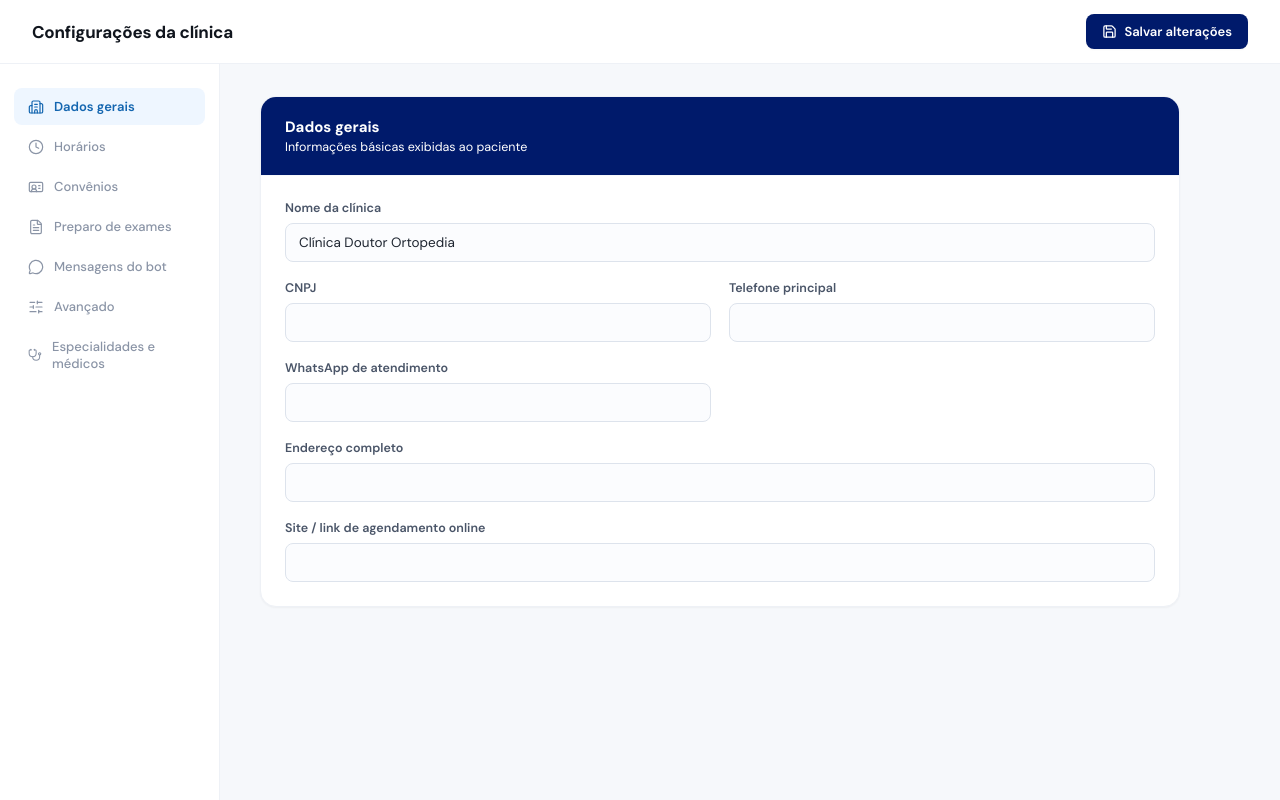
Test: ClinicConfig › atualiza o valor da consulta de um médico existente
Expected: the text "Configurações da clínica" is shown, [32,20,233,42]
Click the text "Especialidades e médicos" at (92, 355), box [28,338,155,372]
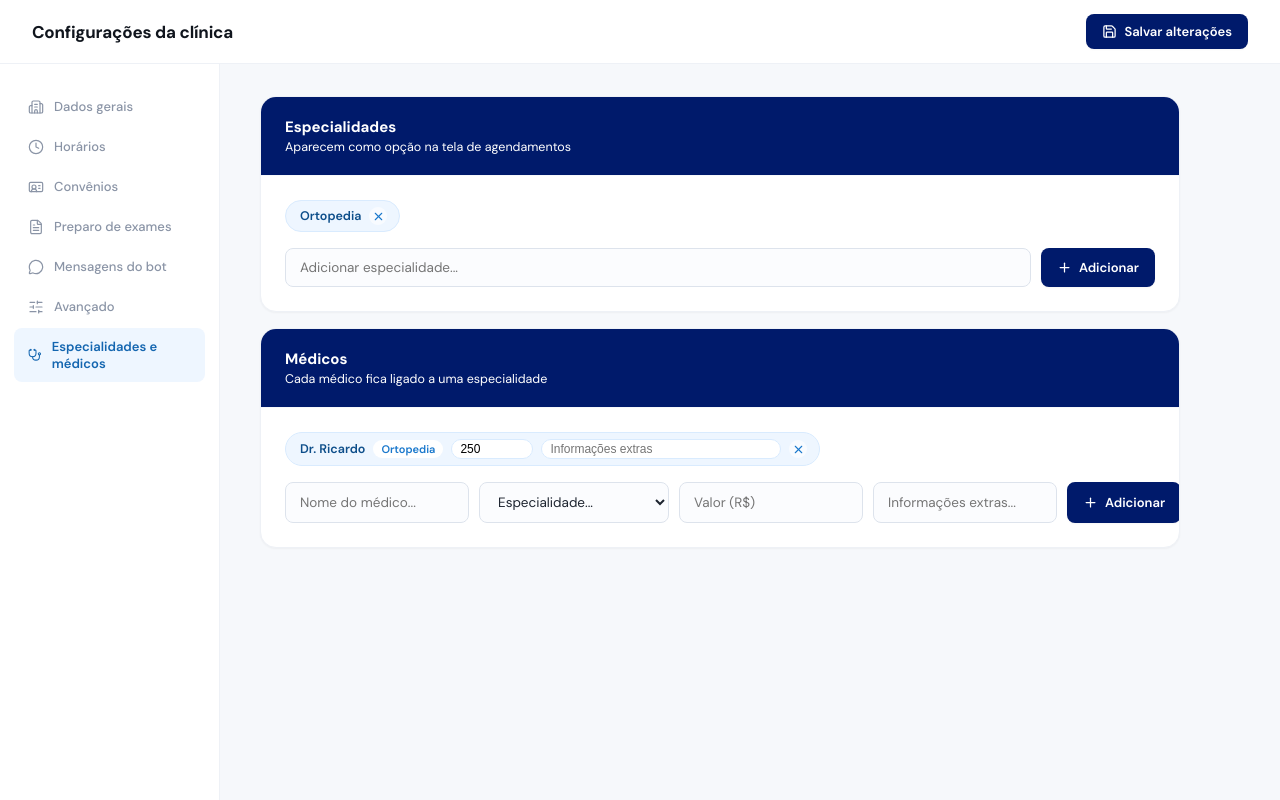
Replace the text in the number field named "Valor da consulta de Dr. Ricardo" with "400" at (492, 449), box [451,439,533,459]
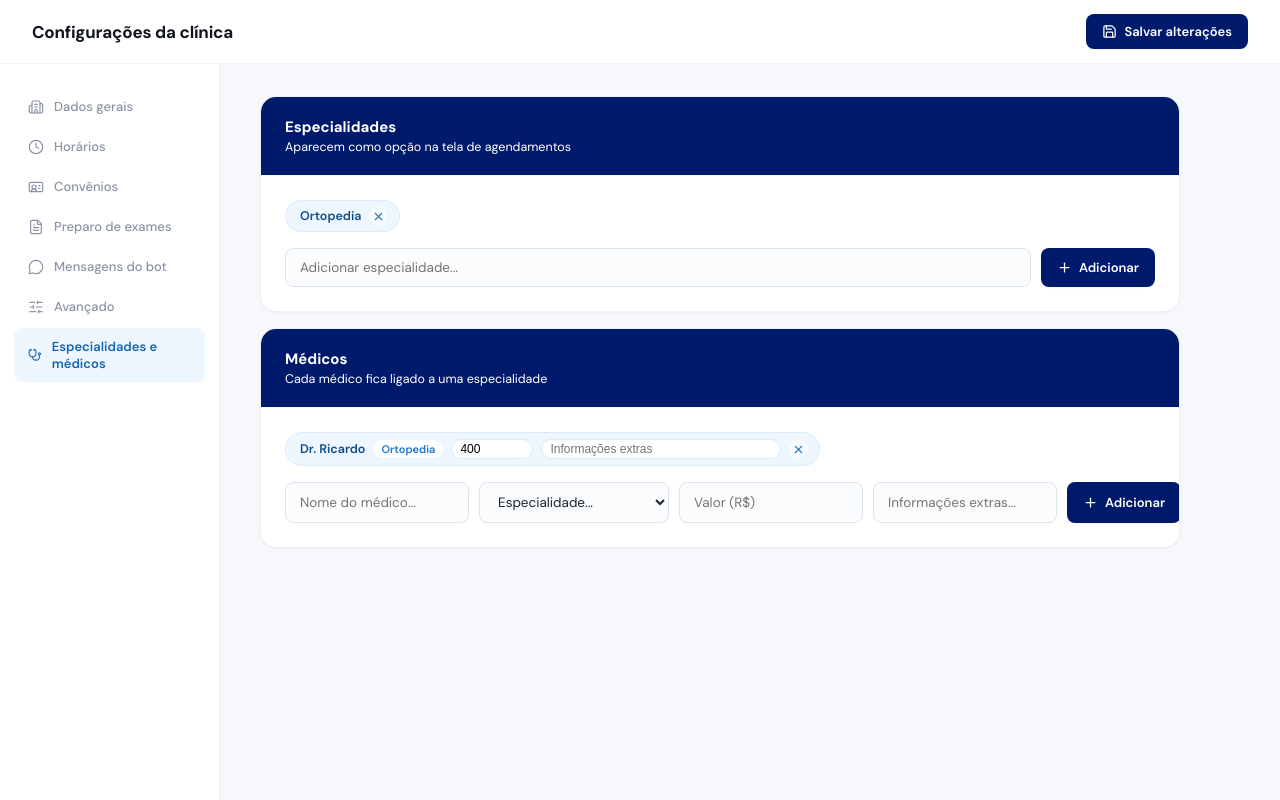
Replace the text in the number field named "Valor da consulta de Dr. Ricardo" with "-5" at (492, 449), box [451,439,533,459]
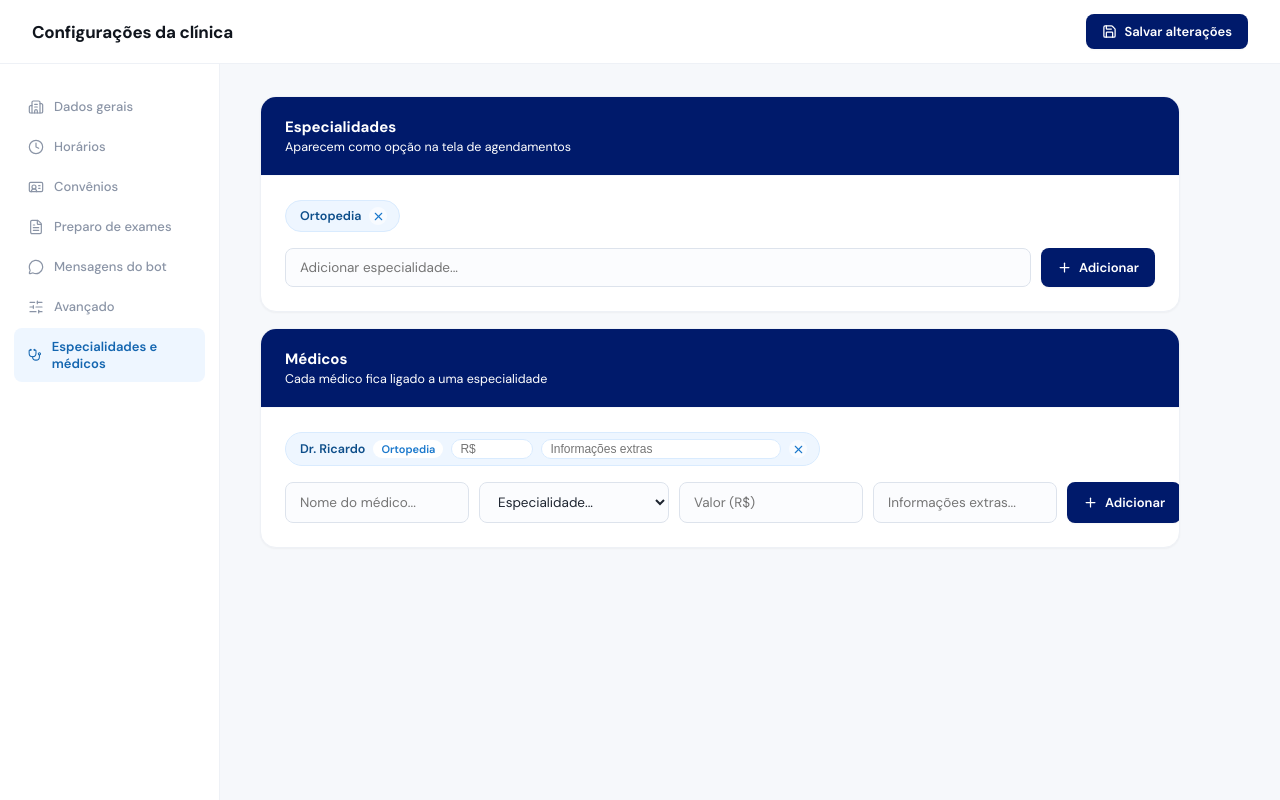
Expected: the number field named "Valor da consulta de Dr. Ricardo" is not empty, [451,439,533,459]
